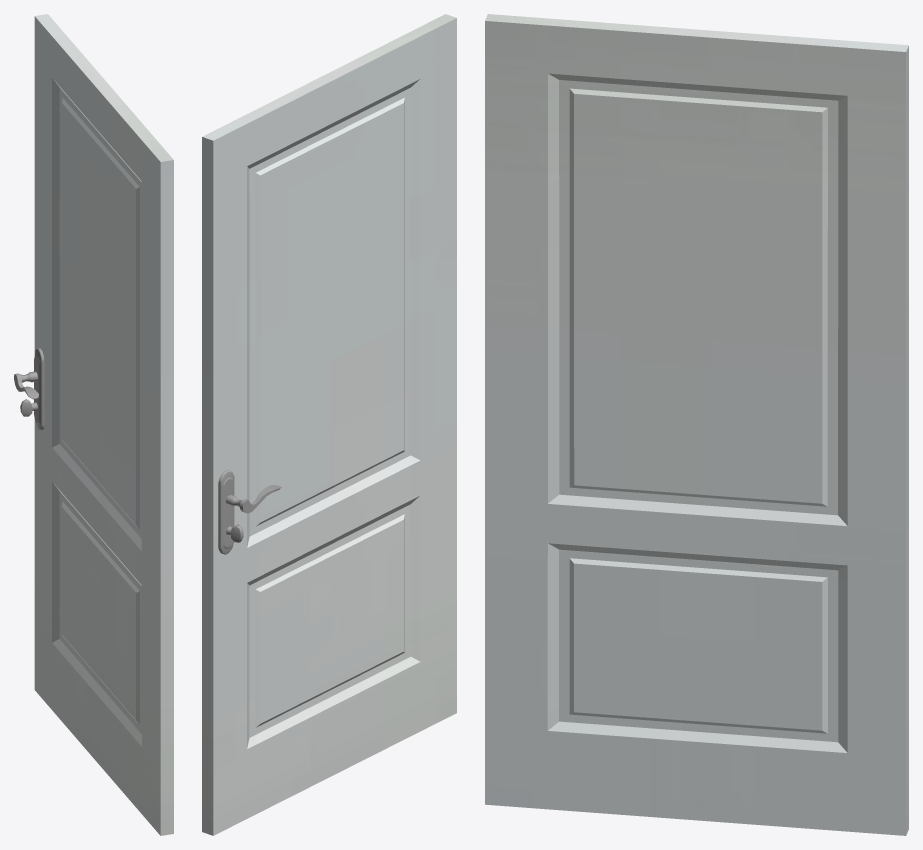
Rendered from men04.fbx.
3 renders of one model, left to right at view 1: azimuth 30°, elevation 25°; view 2: azimuth 150°, elevation 25°; view 3: azimuth 270°, elevation 25°, orthographic. The views are drawn at different scales.
Parts seen in each view (by area): view 1: men04; view 2: men04; view 3: men04.
Boxes of the visible parts, x1,y1,x2,y2 form: men04: [14, 14, 173, 835]; men04: [202, 14, 456, 835]; men04: [485, 14, 908, 835].
Size of the model in its own units: 21.86 by 210 by 103.
